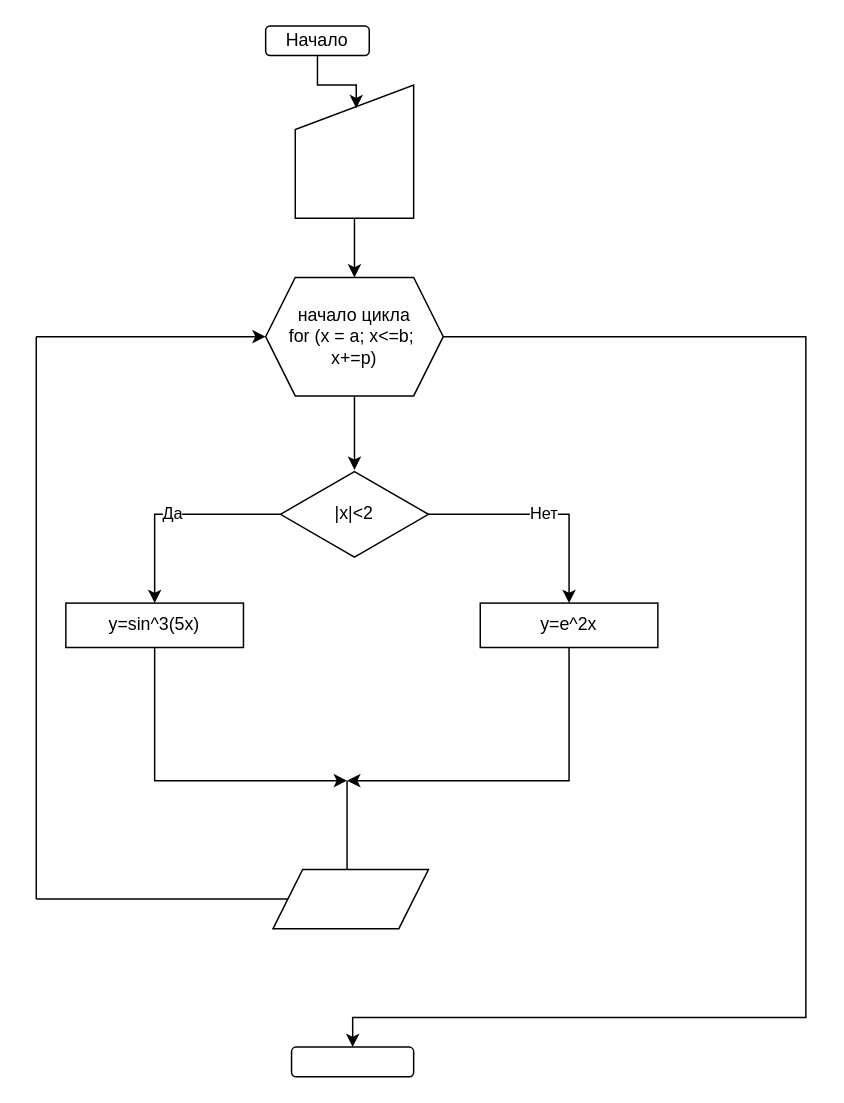
The diagram is 844 pixels wide and 1103 high, and some of its shapes have lost their labels. The centre of each missing label's shape, as x and y in pixels:
"Ввод a,b,p(диапазон и шаг)" belongs at pixel 354 151.
"Вывод y" belongs at pixel 350 898.
"Конец" belongs at pixel 352 1061.
